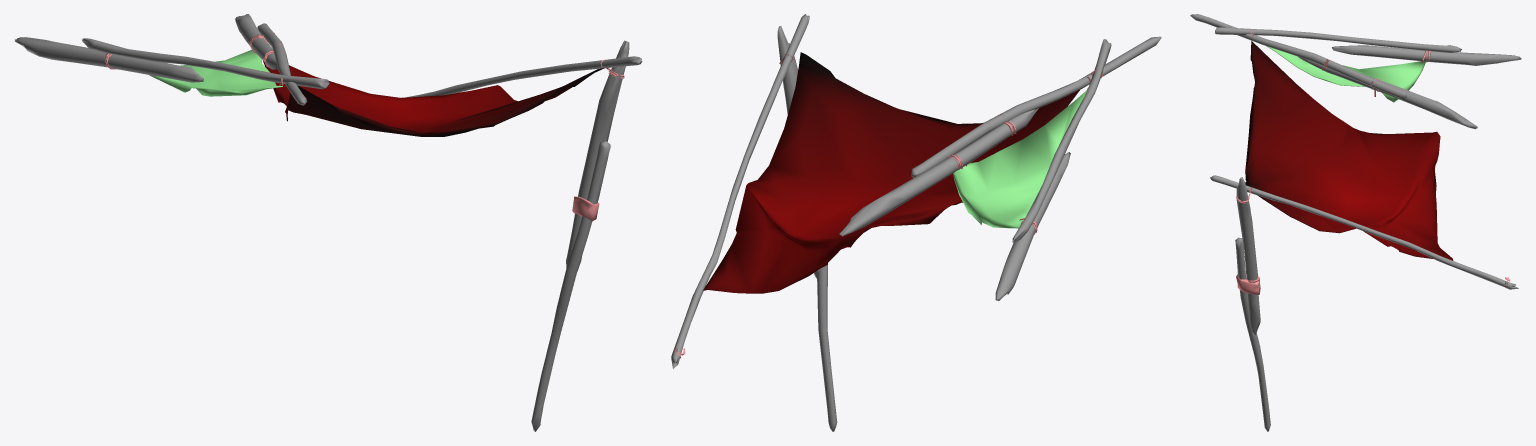
Rendered from wooden_village_tent_overhang_B_02.gltf.
3 renders of one model, left to right at view 1: azimuth 30°, elevation 25°; view 2: azimuth 150°, elevation 25°; view 3: azimuth 270°, elevation 25°, orthographic. The views are drawn at different scales.
Visible parts, largest first — view 1: wooden_village_tent_overhang_B_02; view 2: wooden_village_tent_overhang_B_02; view 3: wooden_village_tent_overhang_B_02.
Part boxes in pixels (x1,y1,x2,y2): wooden_village_tent_overhang_B_02: (15,14,642,431); wooden_village_tent_overhang_B_02: (671,14,1161,431); wooden_village_tent_overhang_B_02: (1190,14,1521,431).
Bounding box in the file's own units: 4.79 × 4.77 × 4.5.
